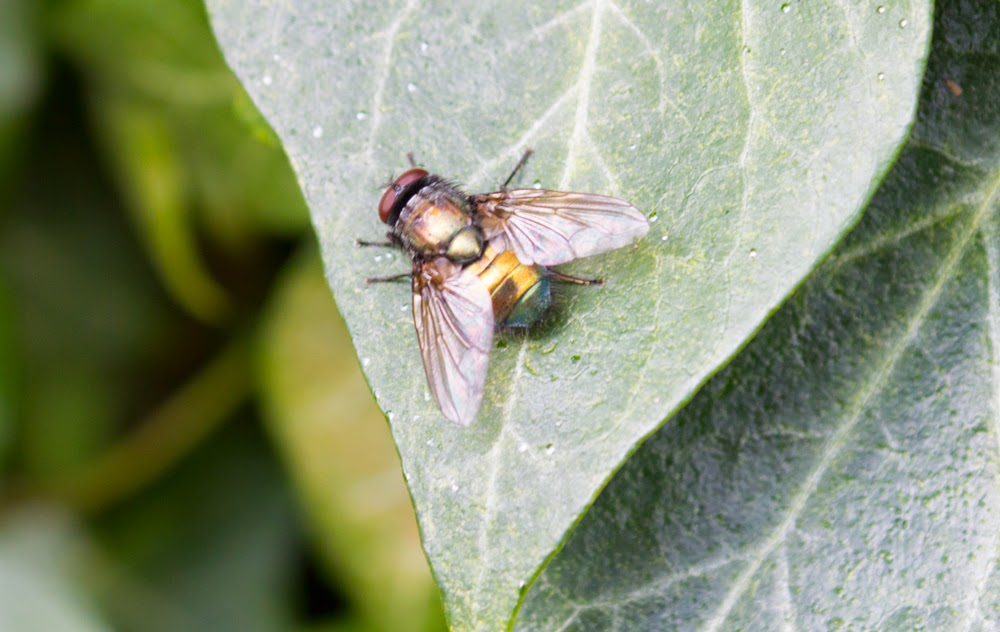green bottles fly: (332, 125, 641, 409)
